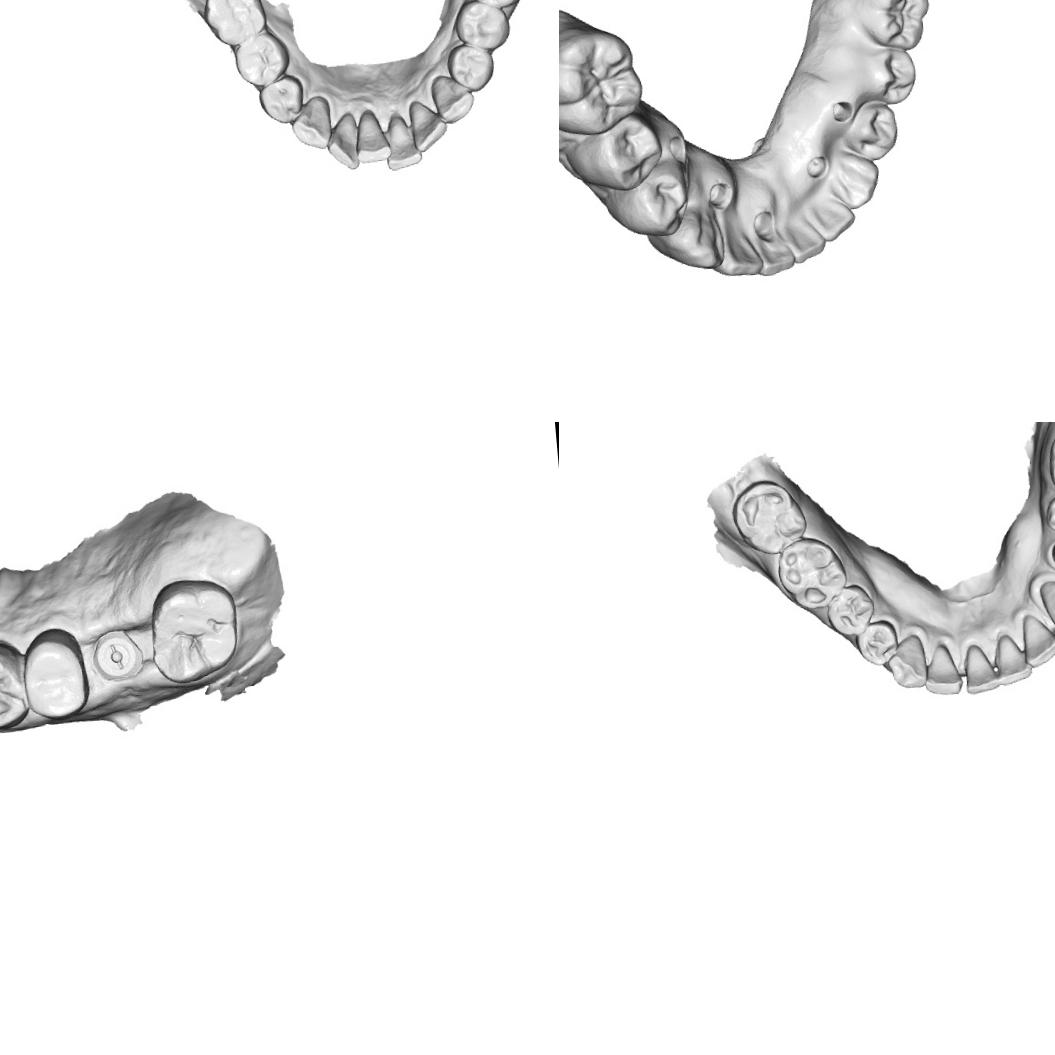canine: (664, 209, 724, 272), (826, 147, 880, 211), (287, 92, 335, 154), (428, 70, 478, 126), (883, 631, 928, 692), (1036, 575, 1055, 633)
implant_minus: (92, 628, 142, 682)
incisor: (712, 216, 764, 282), (323, 109, 364, 173), (350, 106, 393, 165), (406, 96, 450, 153), (990, 630, 1034, 687), (958, 640, 1001, 696), (382, 113, 422, 173), (921, 640, 963, 697), (782, 216, 828, 265), (810, 193, 856, 241), (754, 225, 795, 278), (1019, 610, 1055, 669)
molar: (143, 572, 241, 688), (559, 17, 649, 142), (722, 472, 804, 549), (773, 532, 850, 614), (848, 0, 934, 51), (198, 0, 269, 49)
premolar: (18, 626, 92, 720), (619, 154, 695, 238), (584, 116, 662, 193), (854, 42, 921, 110), (230, 28, 294, 90), (839, 97, 900, 162), (822, 580, 877, 640), (450, 0, 512, 53), (0, 638, 31, 734), (255, 70, 306, 128), (444, 40, 497, 94), (854, 616, 902, 668), (1041, 488, 1055, 539)
